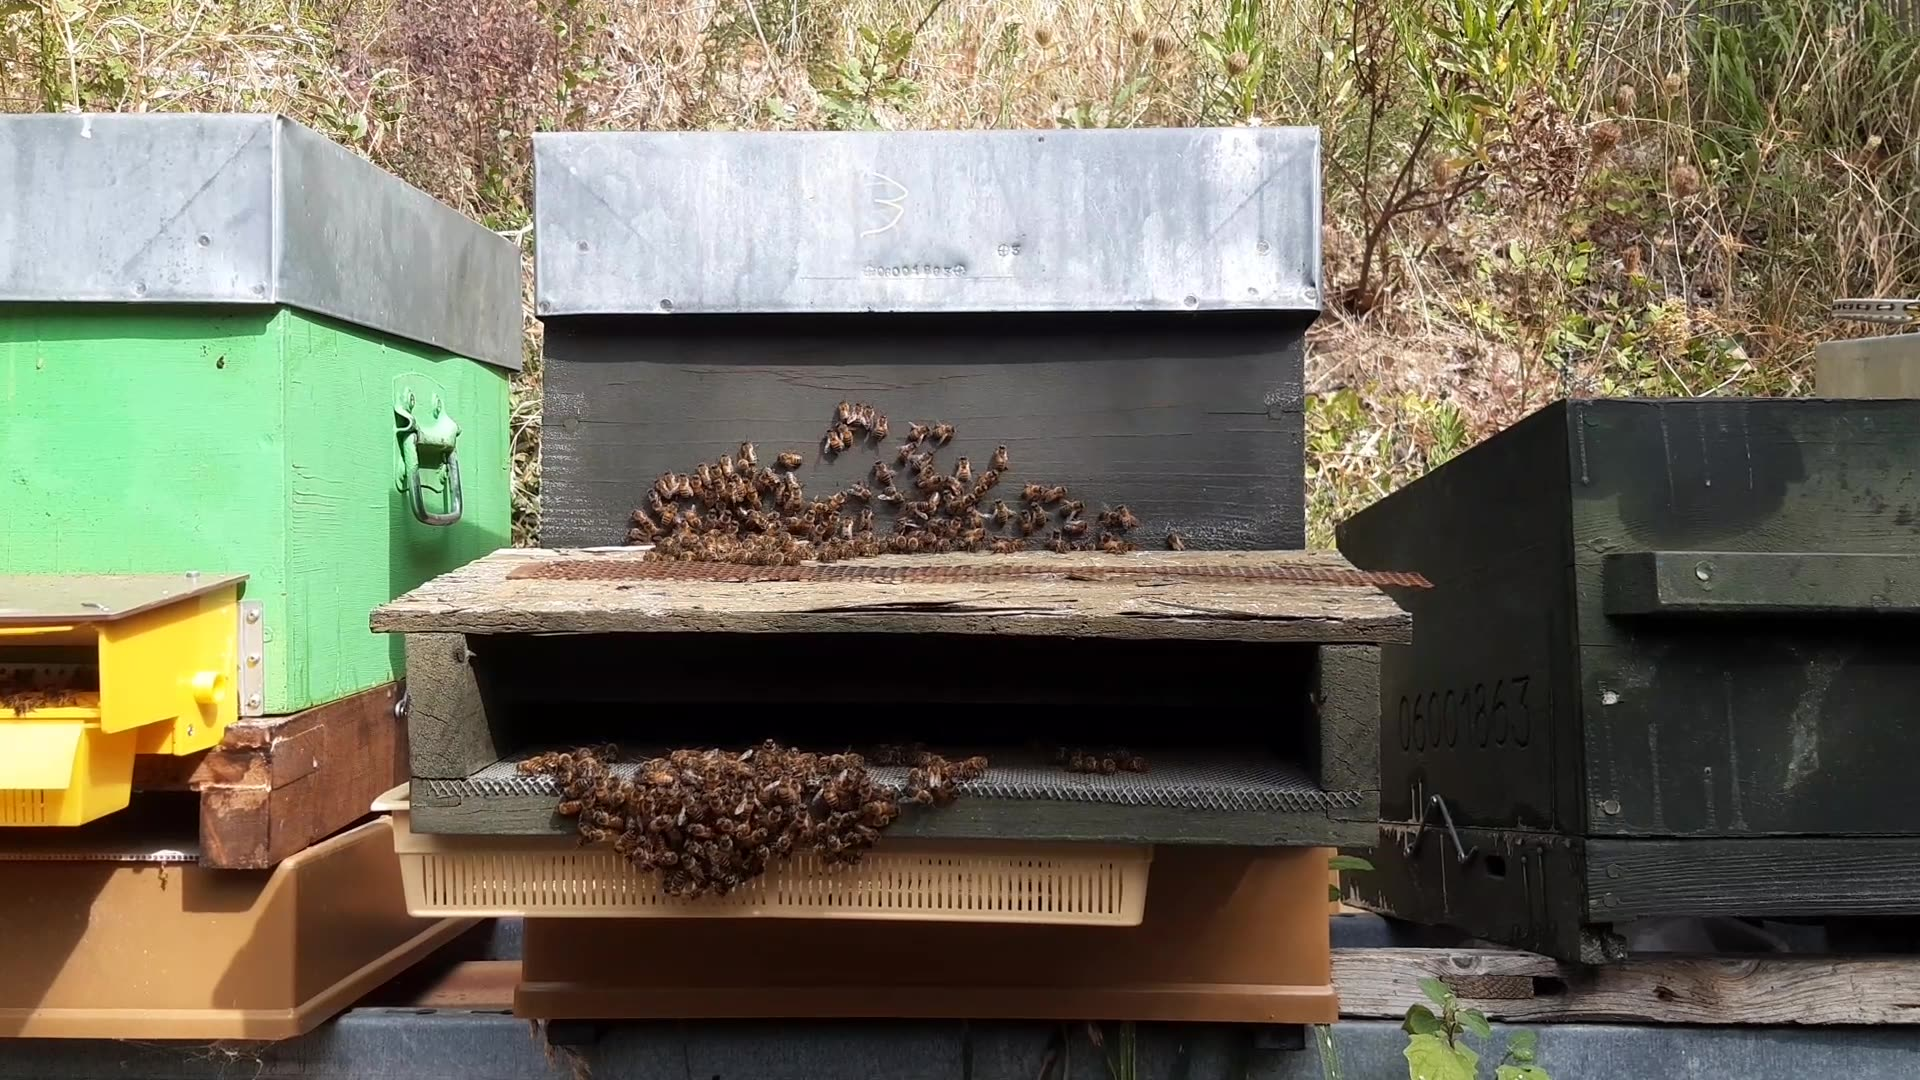bee: (662, 822, 738, 903), (819, 807, 895, 878), (895, 748, 989, 799), (513, 742, 599, 794), (816, 496, 897, 550), (1051, 498, 1134, 550), (597, 735, 692, 773), (1332, 268, 1389, 331), (927, 497, 996, 549), (721, 462, 789, 510), (735, 727, 818, 765), (944, 462, 1006, 512), (828, 415, 891, 463), (760, 512, 823, 559), (512, 417, 564, 469), (1026, 485, 1083, 527)
